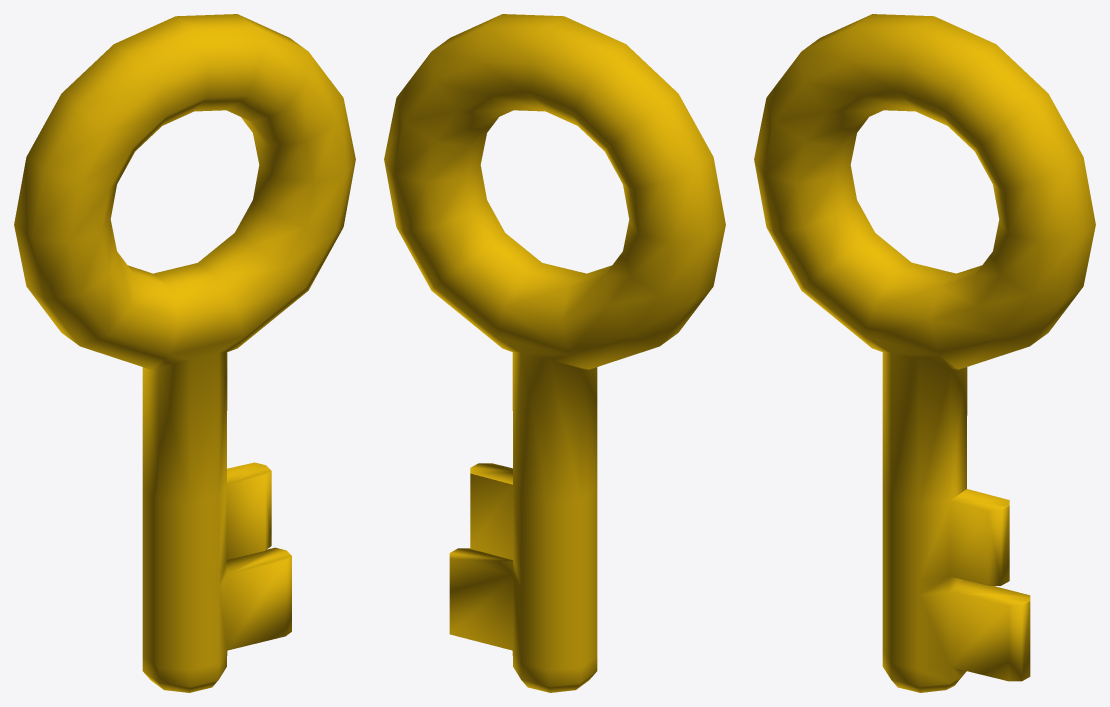
File: Golden_Key.fbx
3 views of the same model, side by side, from view 1: azimuth 30°, elevation 25°; view 2: azimuth 150°, elevation 25°; view 3: azimuth 330°, elevation 25° (orthographic).
Parts seen in each view (by area): view 1: key; view 2: key; view 3: key.
Part boxes in pixels (box(x1,y1,x2,y2)): key: box(14, 14, 355, 692); key: box(384, 14, 725, 692); key: box(754, 14, 1095, 692).
Bounding box in the file's own units: 67.1 × 130 × 16.19.
